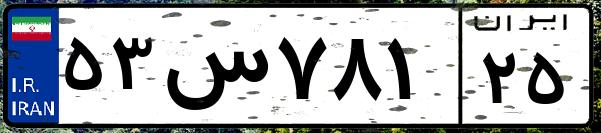1: (385, 28, 445, 110)
2: (475, 38, 525, 113)
3: (110, 28, 158, 98)
5: (57, 26, 110, 100), (525, 38, 570, 115)
7: (270, 28, 330, 110)
8: (330, 28, 385, 110)
س: (158, 20, 270, 120)
